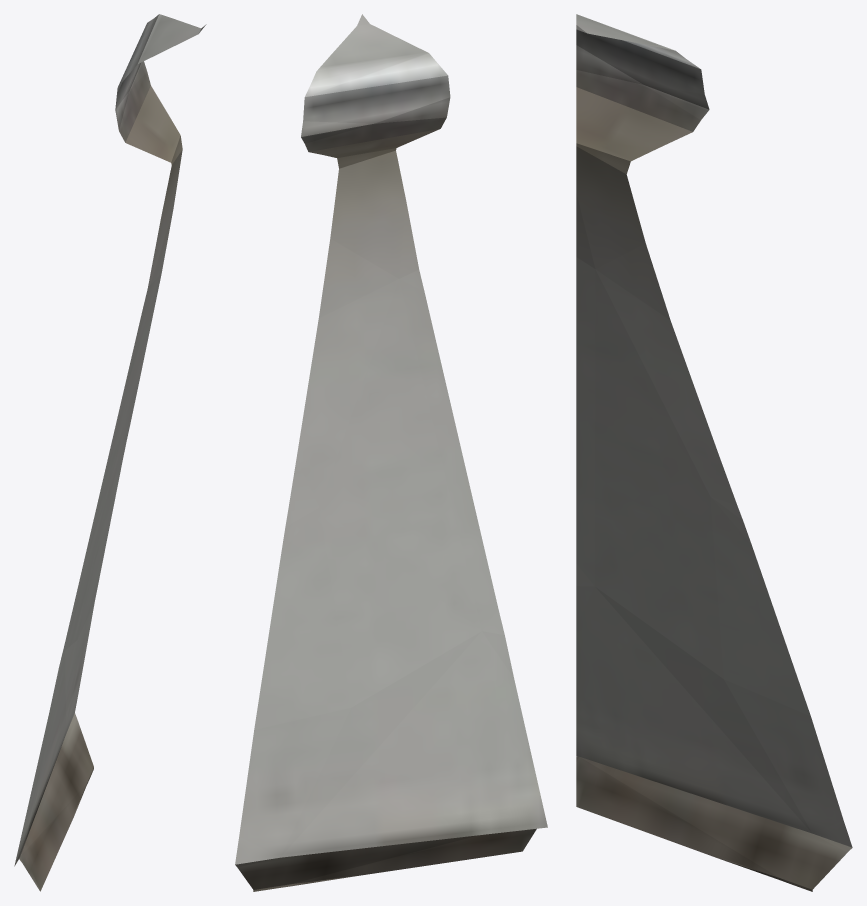
3 views of the same model, side by side, from view 1: azimuth 30°, elevation 25°; view 2: azimuth 150°, elevation 25°; view 3: azimuth 270°, elevation 25° (orthographic). The views are drawn at different scales.
Size of the model in its own units: 0.1339 by 0.5498 by 0.1588.
1 material, 1 textured.
